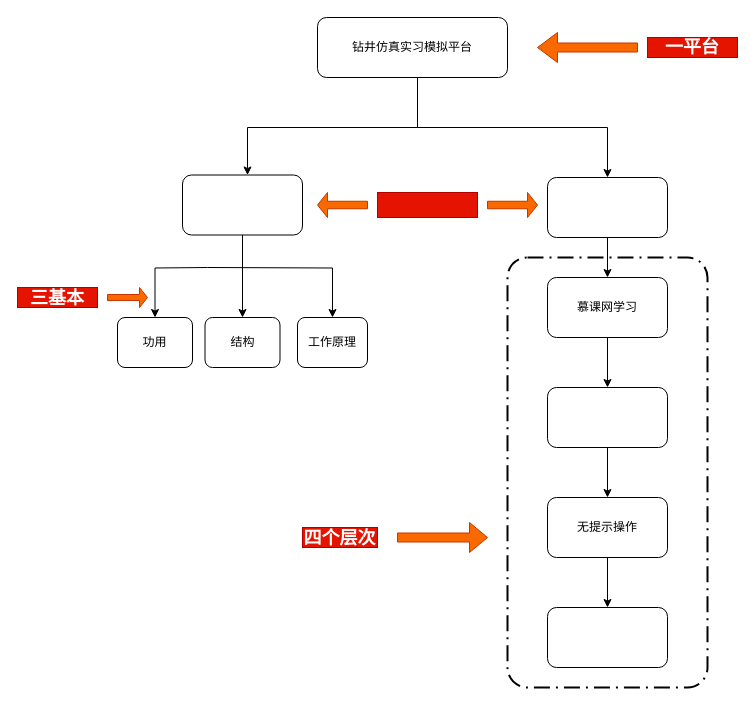
The diagram is 755 pixels wide and 706 high, and some of its shapes have lost their labels. The shapes that lost their labels are listed below. From the top down, each one's box as (x1, y1, x2, y2) in pixels, then its label:
(182, 174, 302, 235): 设备工具
(376, 192, 478, 218): 两模块
(546, 176, 668, 238): 钻井仿真操作
(546, 386, 668, 448): 有提示操作
(546, 606, 668, 668): 考试
